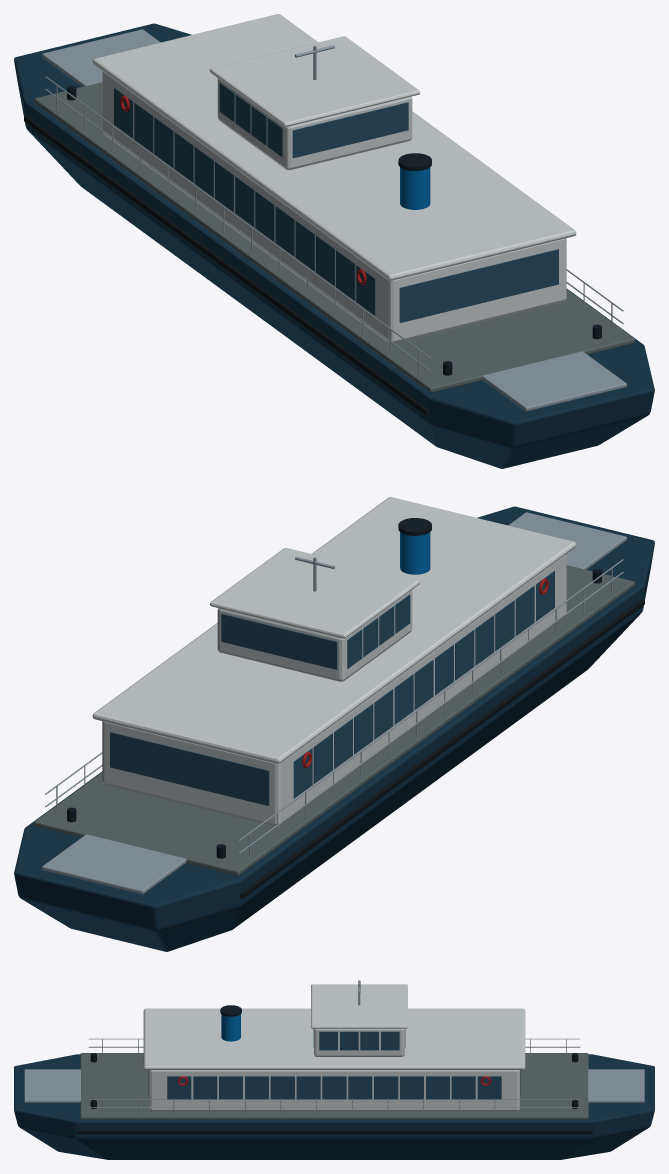
The model's file is ferry.glb.
3 views of the same model, one above another, from view 1: azimuth 30°, elevation 25°; view 2: azimuth 150°, elevation 25°; view 3: azimuth 270°, elevation 25° (orthographic). The views are drawn at different scales.
Parts seen in each view (by area): view 1: ferry_body, ferry_glass, ferry_metal; view 2: ferry_body, ferry_glass, ferry_metal; view 3: ferry_body, ferry_glass, ferry_metal.
Part boxes in pixels (x1=…): ferry_body: x1=14, y1=14, x2=654, y2=468; ferry_glass: x1=114, y1=83, x2=558, y2=322; ferry_metal: x1=42, y1=29, x2=626, y2=411; ferry_body: x1=14, y1=497, x2=654, y2=951; ferry_glass: x1=110, y1=571, x2=554, y2=805; ferry_metal: x1=42, y1=512, x2=626, y2=894; ferry_body: x1=14, y1=984, x2=654, y2=1159; ferry_glass: x1=148, y1=1029, x2=520, y2=1099; ferry_metal: x1=24, y1=980, x2=644, y2=1114.
Bounding box in the file's own units: 9.12 × 9.48 × 35.96.
